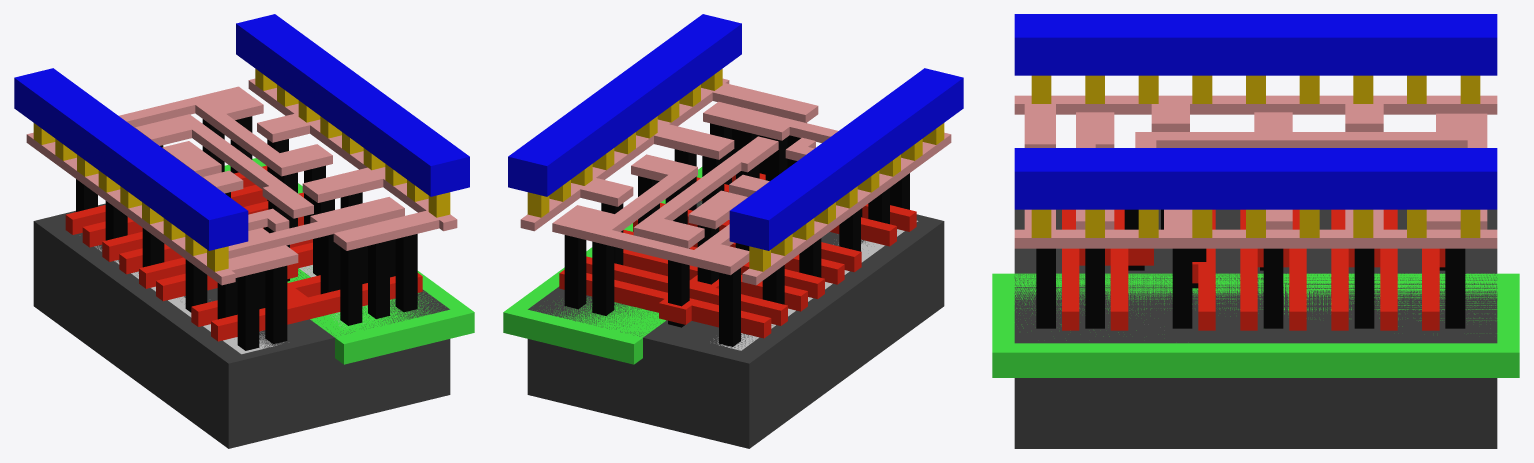
The model's file is sky130_fd_sc_hd__maj3_2.obj.
The picture shows the model from 3 angles, left to right: view 1: azimuth 30°, elevation 25°; view 2: azimuth 150°, elevation 25°; view 3: azimuth 270°, elevation 25°; orthographic projection. The views are drawn at different scales.
Visible parts, largest first — view 1: subs, metal1, li, licon, poly, nwell, mcon, diff; view 2: subs, metal1, li, licon, poly, nwell, mcon, diff; view 3: metal1, subs, li, nwell, poly, licon, mcon.
Part boxes in pixels (<box>): subs: <box>33,203,450,448</box>; metal1: <box>14,14,469,250</box>; li: <box>26,78,457,285</box>; licon: <box>76,116,417,350</box>; poly: <box>65,165,422,341</box>; nwell: <box>224,158,474,364</box>; mcon: <box>33,68,450,271</box>; diff: <box>94,245,283,354</box>; subs: <box>527,200,944,448</box>; metal1: <box>508,14,963,250</box>; li: <box>520,78,951,285</box>; licon: <box>564,123,909,346</box>; poly: <box>559,173,916,338</box>; nwell: <box>503,167,702,364</box>; mcon: <box>527,68,944,271</box>; diff: <box>710,220,918,350</box>; metal1: <box>1014,14,1497,209</box>; subs: <box>1014,209,1497,448</box>; li: <box>1014,95,1497,248</box>; nwell: <box>992,273,1519,377</box>; poly: <box>1062,209,1445,330</box>; licon: <box>1036,209,1465,328</box>; mcon: <box>1031,75,1480,237</box>.
Bounding box in the file's own units: 3.2 × 2.74 × 4.52.
